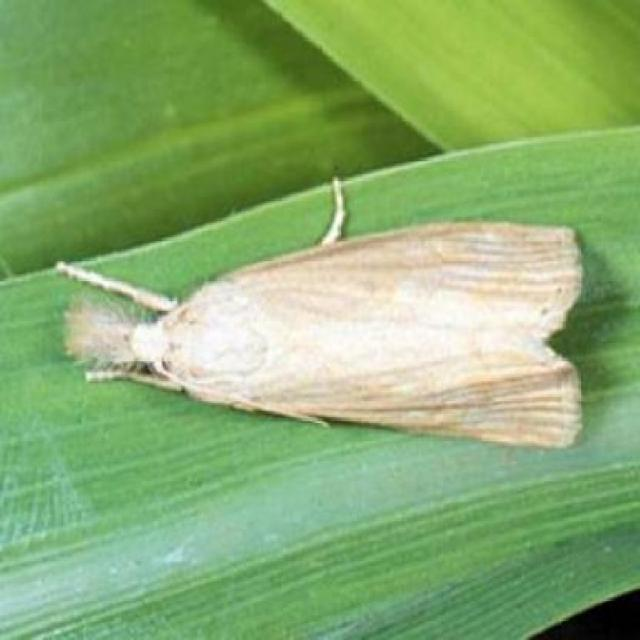stem-borer: (51, 175, 591, 457)
